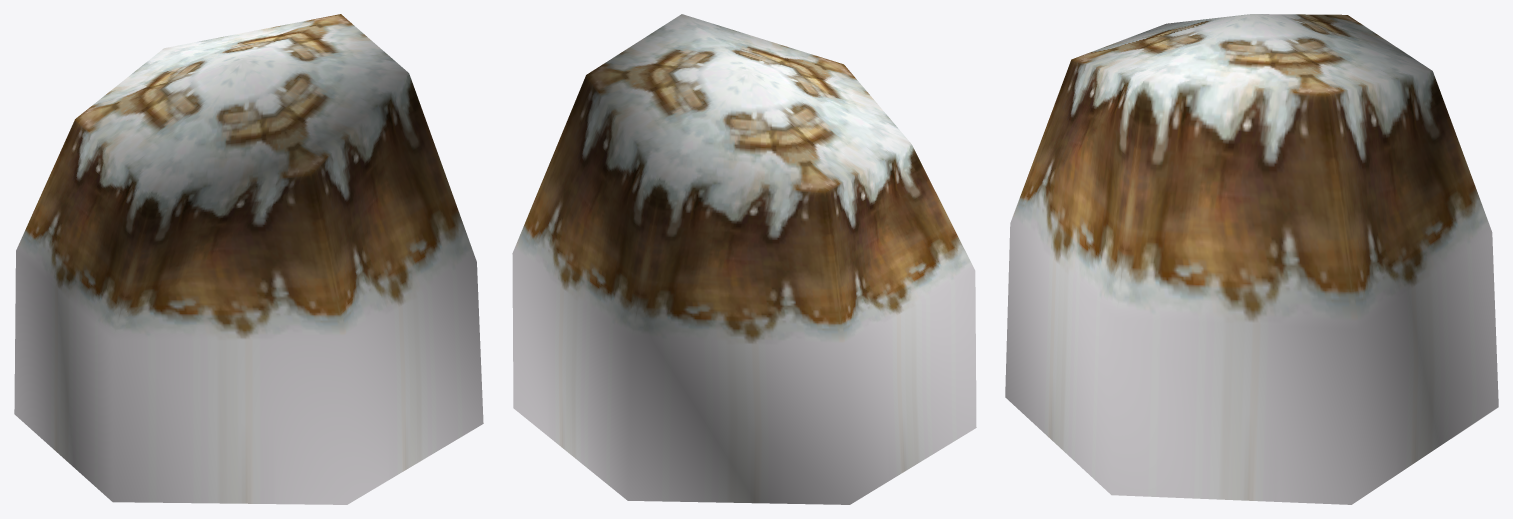
The model's file is ironstump03.obj.
3 renders of one model, left to right at view 1: azimuth 30°, elevation 25°; view 2: azimuth 150°, elevation 25°; view 3: azimuth 270°, elevation 25°, orthographic. The views are drawn at different scales.
Parts seen in each view (by area): view 1: IRONSTUMP030; view 2: IRONSTUMP030; view 3: IRONSTUMP030.
Boxes of the visible parts, <box> form: IRONSTUMP030: <box>14,14,483,504</box>; IRONSTUMP030: <box>512,14,976,504</box>; IRONSTUMP030: <box>1005,14,1498,504</box>.
Bounding box in the file's own units: 6.25 × 5.69 × 6.55.
1 material, 1 textured.
